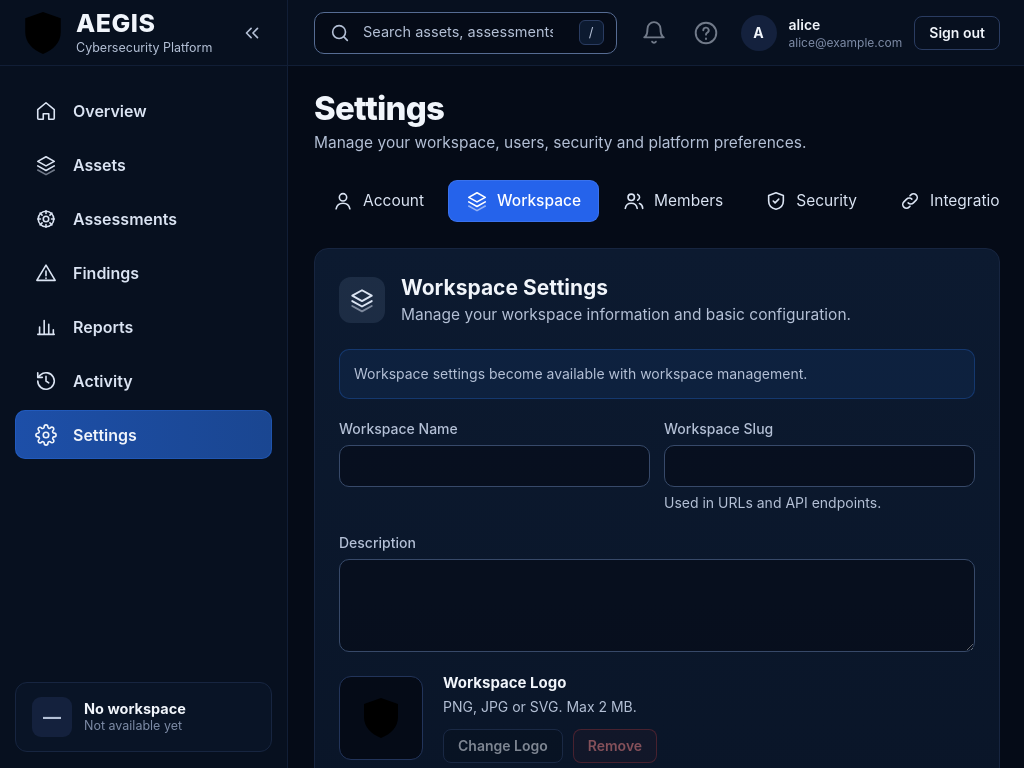
Test: profile › asks for the current password instead of sending a change without it
The width and height of the screenshot is (1024, 768).
Click the tab "Account" at (378, 201), box [314,180,442,222]
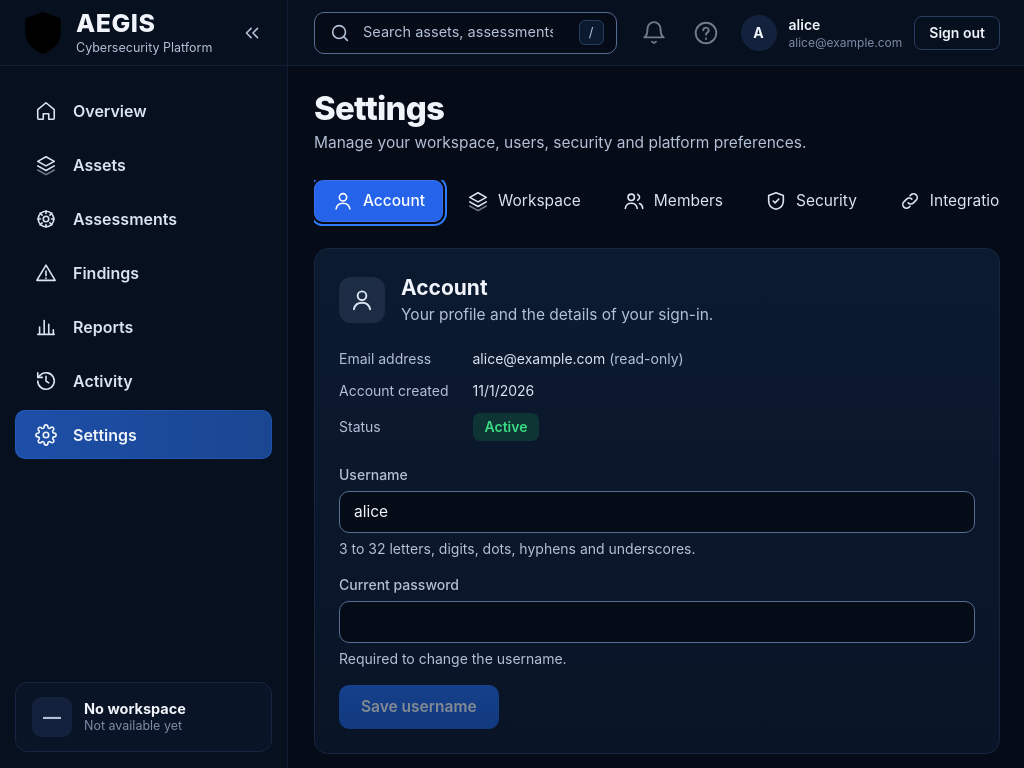
Replace the text in the field labelled "Username" with "alice.smith" at (657, 512), box [339,491,975,533]
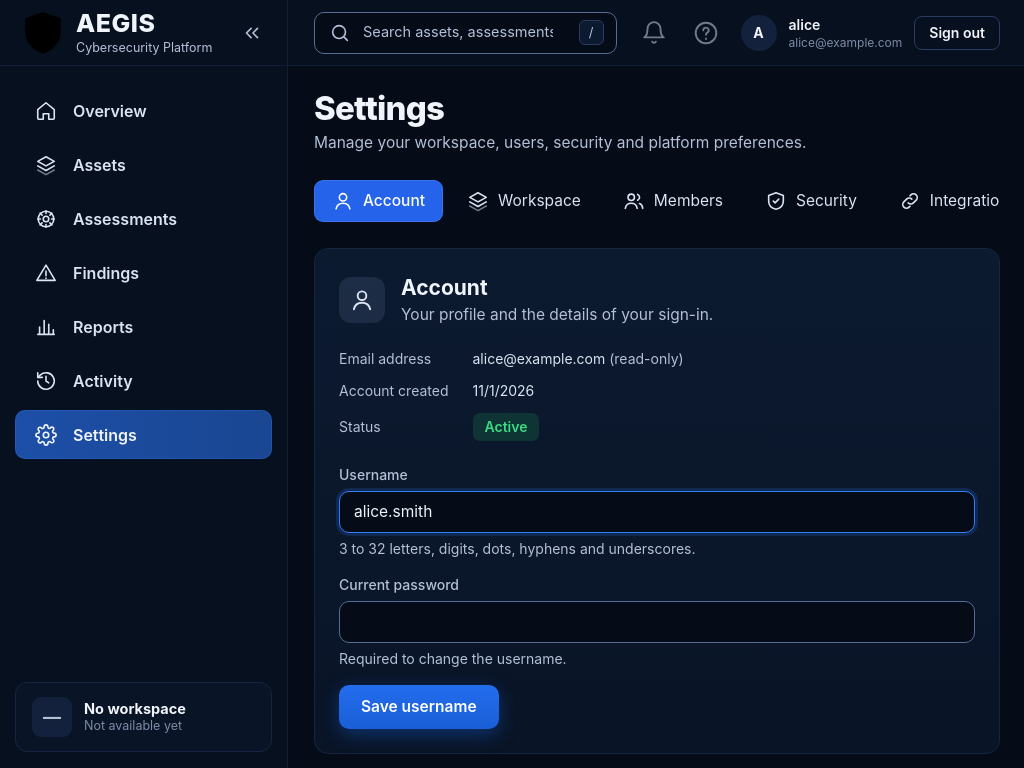
Click the button "Save username" at (419, 707), box [339,685,499,729]
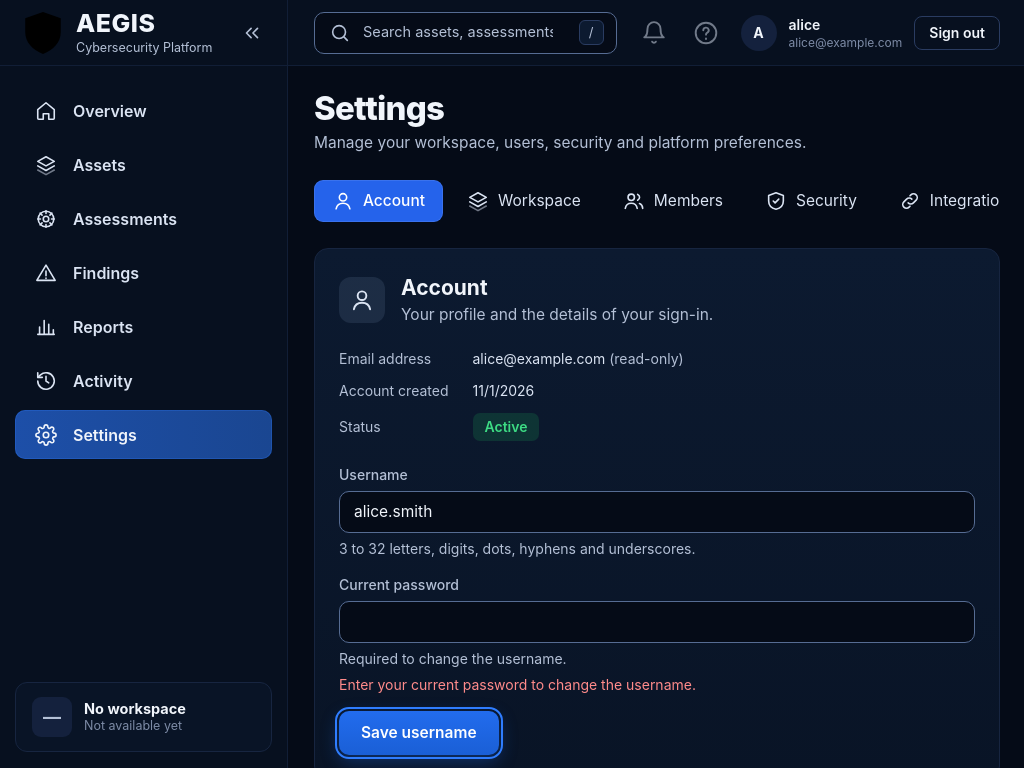
Check: the text "Enter your current password to change the username." is shown, box [339,676,696,693]
